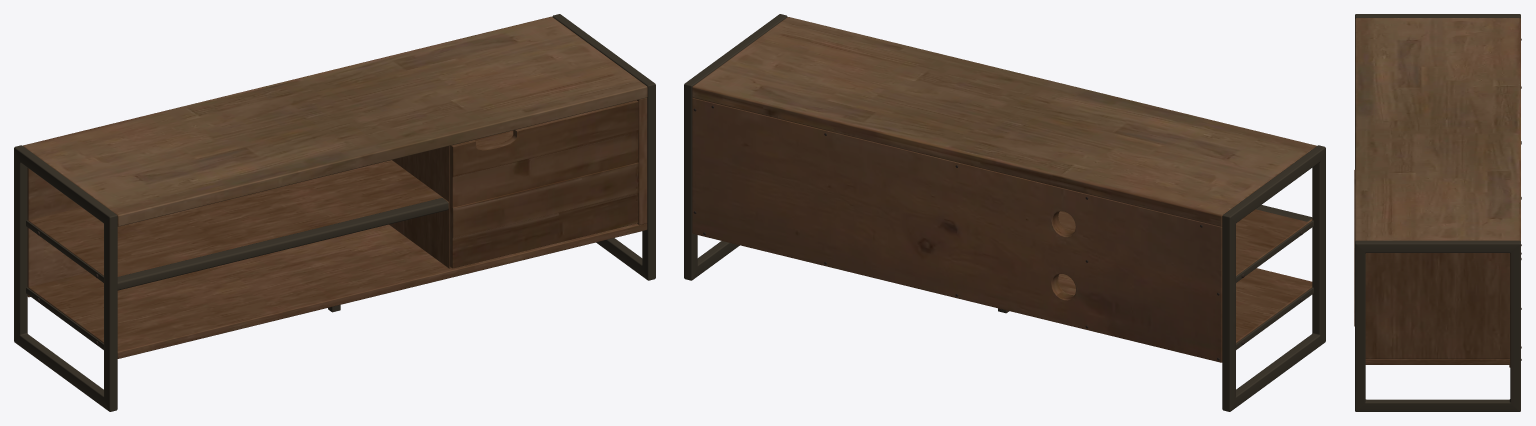
Rendered from abo-B07HSG5DGP.glb.
The picture shows the model from 3 angles, left to right: view 1: azimuth 30°, elevation 25°; view 2: azimuth 150°, elevation 25°; view 3: azimuth 270°, elevation 25°; orthographic projection. The views are drawn at different scales.
Size of the model in its own units: 1.48 by 0.506 by 0.454.
Materials: 1 (1 with a texture image).
